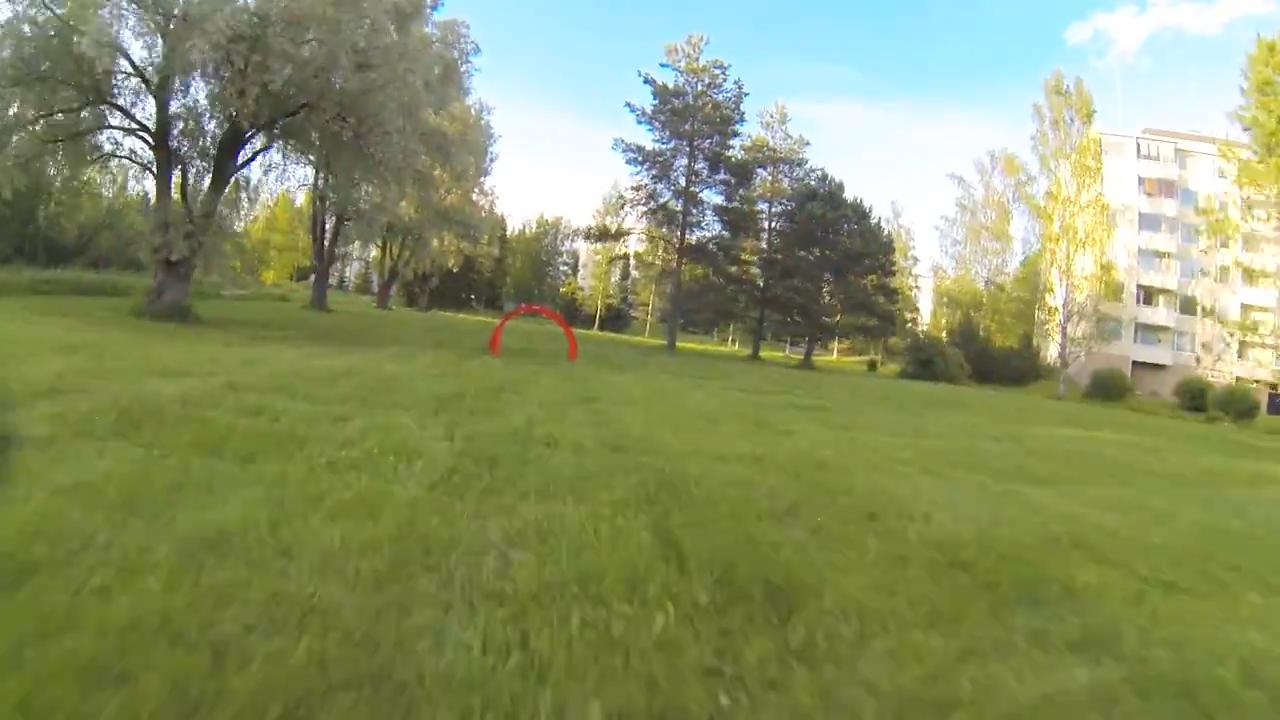gate: (483, 302, 578, 364)
